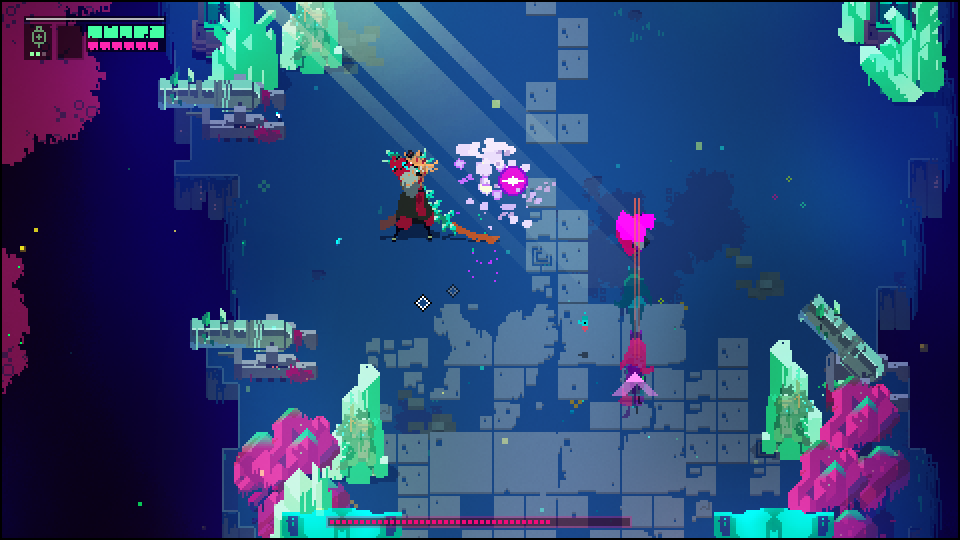hanged_man: (376, 146, 460, 245)
hanged_shot: (493, 163, 530, 200)
player: (611, 207, 658, 253)
